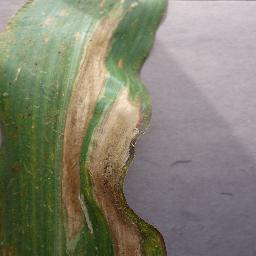Corn_Blight: (54, 76, 158, 256), (67, 2, 145, 75), (0, 3, 30, 97), (1, 110, 38, 175), (0, 188, 31, 256), (144, 222, 184, 251), (41, 8, 58, 52)
